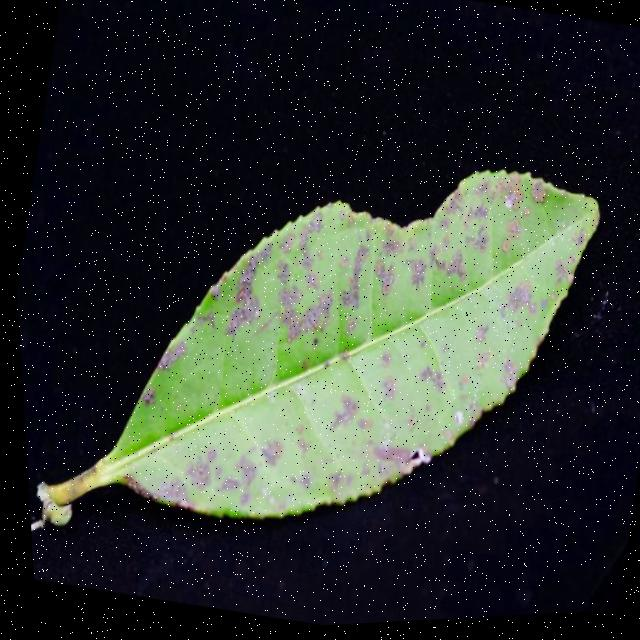Tea red rust: (120, 123, 563, 567)
